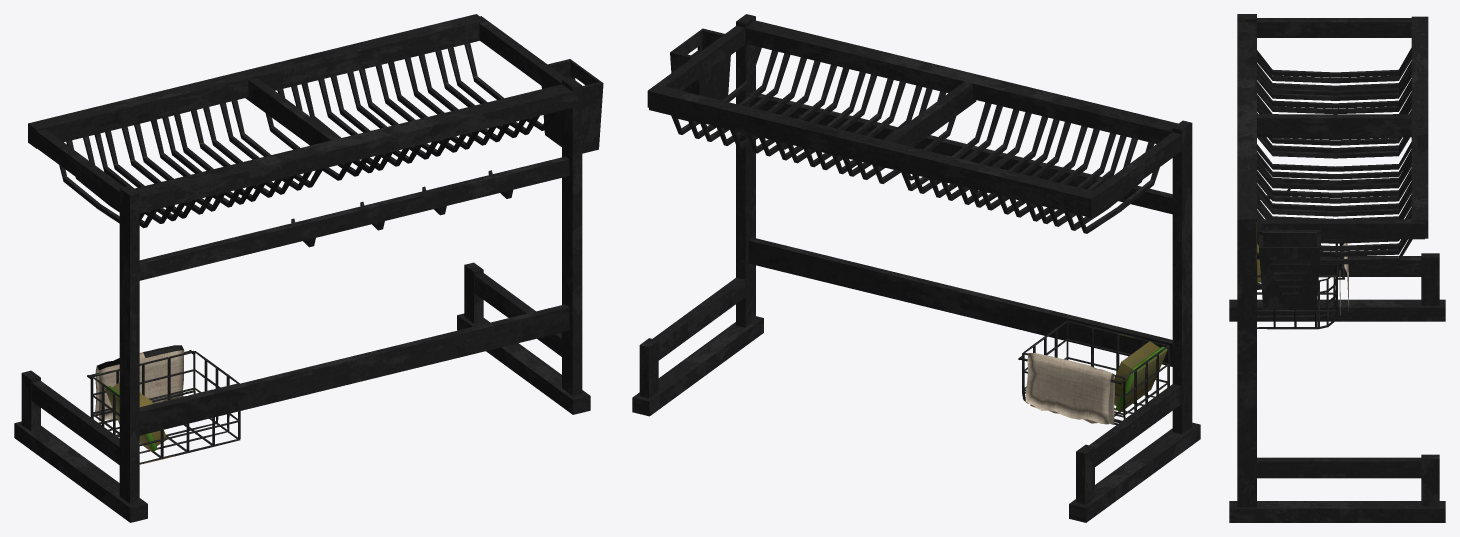
The picture shows the model from 3 angles, left to right: view 1: azimuth 30°, elevation 25°; view 2: azimuth 150°, elevation 25°; view 3: azimuth 270°, elevation 25°; orthographic projection. The views are drawn at different scales.
Visible parts, largest first — view 1: RP; view 2: RP; view 3: RP.
Part boxes in pixels (left/top/right/bottom): RP: left=14, top=14, right=603, bottom=522; RP: left=632, top=14, right=1200, bottom=522; RP: left=1229, top=14, right=1445, bottom=522.
Size of the model in its own units: 1.73 by 0.7111 by 1.09.
